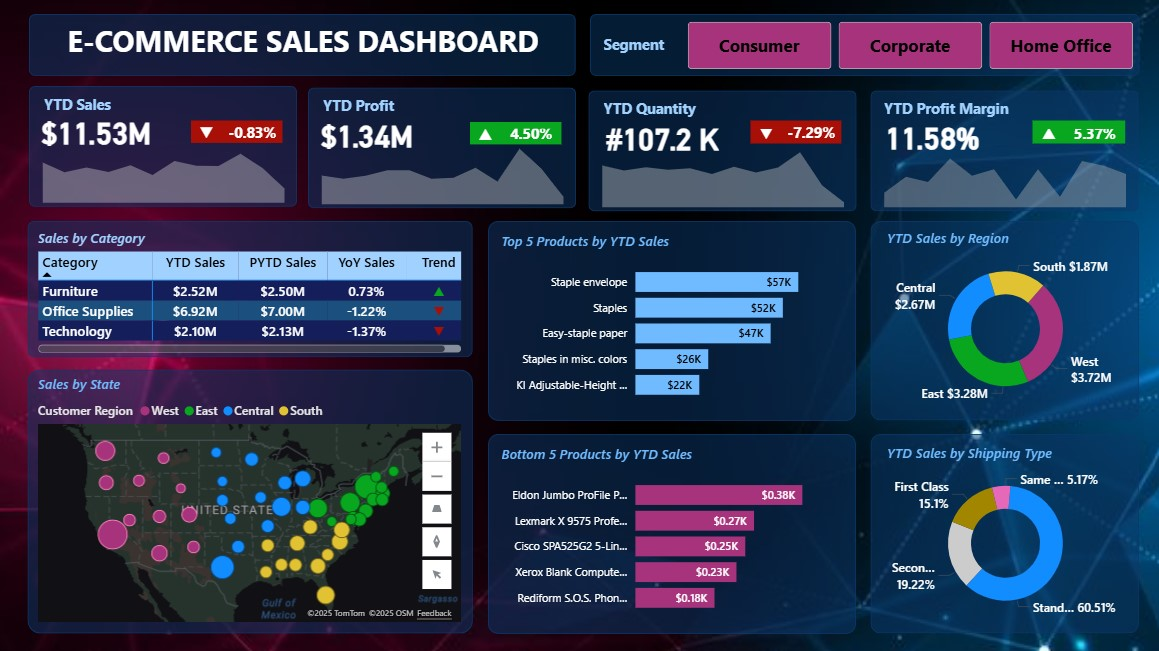

The dashboard page shown, as its layout file describes it:
{"tool":"powerbi","page":{"name":"Page 1","canvas":[1280,720],"ordinal":0},"visuals":[{"type":"shape","box":[33.3,16.7,601.7,68.3],"z":0},{"type":"textbox","box":[35,18.3,600,66.7],"z":1000},{"type":"shape","box":[33,95.8,295,133],"z":2000},{"type":"card","fields":{"Values":["ecommerce_data.YTD Sales"]},"box":[33,117.2,146.9,56.1],"z":3000},{"type":"shape","box":[211.3,133.7,100.7,24.8],"z":4000},{"type":"areaChart","fields":{"Category":["Calender.Month"],"Y":["Sum(ecommerce_data.sales_per_order)"]},"box":[33,146.9,295.5,82.5],"z":5000},{"type":"card","fields":{"Values":["ecommerce_data.YoY Sales"]},"box":[244.3,133.7,67.7,24.8],"z":6000},{"type":"card","fields":{"Values":["ecommerce_data.Sales Icon"]},"box":[211.3,133.7,33,24.8],"z":7000},{"type":"textbox","box":[44.6,99.1,105.7,34.7],"z":8000},{"type":"shape","box":[340.2,96.9,295,133],"z":9000},{"type":"card","fields":{"Values":["ecommerce_data.YTD Profit"]},"box":[336.2,120,135.4,56.1],"z":10000},{"type":"shape","box":[518.5,134.9,100.7,24.8],"z":11000},{"type":"areaChart","fields":{"Category":["Calender.Month"],"Y":["Sum(ecommerce_data.profit_per_order)"]},"box":[340.2,148.1,295.5,82.5],"z":12000},{"type":"card","fields":{"Values":["ecommerce_data.YoY Profit"]},"box":[551.5,134.9,67.7,24.8],"z":13000},{"type":"card","fields":{"Values":["ecommerce_data.Profit Icon"]},"box":[517.8,134.8,33,24.8],"z":14000},{"type":"textbox","box":[351.7,100.2,105.7,34.7],"z":15000},{"type":"shape","box":[648.4,101.4,295,133],"z":16000},{"type":"card","fields":{"Values":["ecommerce_data.YTD Concatenated Qty"]},"box":[661.5,124.4,135.4,56.1],"z":17000},{"type":"shape","box":[826.7,133.3,100,25],"z":18000},{"type":"areaChart","fields":{"Category":["Calender.Month"],"Y":["Sum(ecommerce_data.order_quantity)"]},"box":[648.4,152.6,295.5,82.5],"z":19000},{"type":"card","fields":{"Values":["ecommerce_data.YoY Qty"]},"box":[860,133.3,66.7,25],"z":20000},{"type":"card","fields":{"Values":["ecommerce_data.Qty Icon"]},"box":[826.7,133.3,33.3,23.3],"z":21000},{"type":"textbox","box":[659.8,104.6,135.4,34.7],"z":22000},{"type":"shape","box":[958.9,100.4,295,133],"z":23000},{"type":"card","fields":{"Values":["ecommerce_data.YTD Profit Margin"]},"box":[959.7,122.7,135.4,56.1],"z":24000},{"type":"shape","box":[1136.7,133.3,101.7,25],"z":25000},{"type":"areaChart","fields":{"Category":["Calender.Month"],"Y":["ecommerce_data.Profit Margin"]},"box":[958.9,151.6,295.5,82.5],"z":26000},{"type":"card","fields":{"Values":["ecommerce_data.YoY Profit Margin"]},"box":[1171.7,133.3,66.7,23.3],"z":27000},{"type":"card","fields":{"Values":["ecommerce_data.Profit Margin Icon"]},"box":[1136.7,133.3,35,23.3],"z":28000},{"type":"textbox","box":[969.6,104.6,166.7,33],"z":29000},{"type":"shape","box":[31.4,244.3,490,150],"z":30000},{"type":"pivotTable","title":"Sales by Category","fields":{"Rows":["ecommerce_data.category_name"],"Values":["ecommerce_data.YTD Sales","ecommerce_data.PTYD Sales","ecommerce_data.YoY Sales","ecommerce_data.Sales Icon"]},"box":[38,252.6,475.5,142],"z":31000},{"type":"shape","box":[31.4,407.8,490.3,290.6],"z":32000},{"type":"azureMap","title":"Sales by State","fields":{"Y":["us_state_long_lat_codes.latitude"],"X":["us_state_long_lat_codes.longitude"],"Size":["ecommerce_data.YTD Sales"],"Series":["ecommerce_data.customer_region"]},"box":[38.3,413.3,475,278.3],"z":33000},{"type":"shape","box":[538.3,245,405,220],"z":34000},{"type":"shape","box":[538.3,478.3,405,220],"z":35000},{"type":"barChart","title":"Top 5 Products by YTD Sales","fields":{"Category":["ecommerce_data.product_name"],"Y":["ecommerce_data.YTD Sales"]},"box":[548.1,255.9,379.7,196.5],"z":36000},{"type":"barChart","title":"Bottom 5 Products by YTD Sales","fields":{"Category":["ecommerce_data.product_name"],"Y":["ecommerce_data.YTD Sales"]},"box":[548.1,489.8,379.7,196.5],"z":37000},{"type":"shape","box":[959.2,244.3,295.5,219.6],"z":38000},{"type":"shape","box":[959.2,478.8,295.5,219.6],"z":39000},{"type":"donutChart","title":"YTD Sales by Region","fields":{"Category":["ecommerce_data.Customer Region"],"Y":["ecommerce_data.YTD Sales"]},"box":[971.7,253.3,270,200],"z":40000},{"type":"donutChart","title":"YTD Sales by Shipping Type","fields":{"Y":["ecommerce_data.YTD Sales"],"Category":["ecommerce_data.shipping_type"]},"box":[971.7,488.3,270,200],"z":41000},{"type":"shape","box":[650,16.7,605,68.3],"z":42000},{"type":"advancedSlicerVisual","fields":{"Values":["ecommerce_data.customer_segment"]},"box":[752.8,19.8,501.9,62.7],"z":43000},{"type":"textbox","box":[660.4,33,92.5,36.3],"z":44000}]}

Visuals, with their boxes in screenshot pixels (x1, y1, x2, y2), scaled from the page's 1280x720 canvas onto the 1159x651 screenshot:
shape: Rect(30, 15, 575, 77)
textbox: Rect(32, 17, 575, 77)
shape: Rect(30, 87, 297, 207)
card - ecommerce_data.YTD Sales: Rect(30, 106, 163, 157)
shape: Rect(191, 121, 283, 143)
areaChart - Calender.Month x Sum(ecommerce_data.sales_per_order): Rect(30, 133, 297, 207)
card - ecommerce_data.YoY Sales: Rect(221, 121, 283, 143)
card - ecommerce_data.Sales Icon: Rect(191, 121, 221, 143)
textbox: Rect(40, 90, 136, 121)
shape: Rect(308, 88, 575, 208)
card - ecommerce_data.YTD Profit: Rect(304, 108, 427, 159)
shape: Rect(469, 122, 561, 144)
areaChart - Calender.Month x Sum(ecommerce_data.profit_per_order): Rect(308, 134, 576, 209)
card - ecommerce_data.YoY Profit: Rect(499, 122, 561, 144)
card - ecommerce_data.Profit Icon: Rect(469, 122, 499, 144)
textbox: Rect(318, 91, 414, 122)
shape: Rect(587, 92, 854, 212)
card - ecommerce_data.YTD Concatenated Qty: Rect(599, 112, 722, 163)
shape: Rect(749, 121, 839, 143)
areaChart - Calender.Month x Sum(ecommerce_data.order_quantity): Rect(587, 138, 855, 213)
card - ecommerce_data.YoY Qty: Rect(779, 121, 839, 143)
card - ecommerce_data.Qty Icon: Rect(749, 121, 779, 142)
textbox: Rect(597, 95, 720, 126)
shape: Rect(868, 91, 1135, 211)
card - ecommerce_data.YTD Profit Margin: Rect(869, 111, 992, 162)
shape: Rect(1029, 121, 1121, 143)
areaChart - Calender.Month x ecommerce_data.Profit Margin: Rect(868, 137, 1136, 212)
card - ecommerce_data.YoY Profit Margin: Rect(1061, 121, 1121, 142)
card - ecommerce_data.Profit Margin Icon: Rect(1029, 121, 1061, 142)
textbox: Rect(878, 95, 1029, 124)
shape: Rect(28, 221, 472, 357)
"Sales by Category" pivotTable: Rect(34, 228, 465, 357)
shape: Rect(28, 369, 472, 631)
"Sales by State" azureMap: Rect(35, 374, 465, 625)
shape: Rect(487, 222, 854, 420)
shape: Rect(487, 432, 854, 631)
"Top 5 Products by YTD Sales" barChart: Rect(496, 231, 840, 409)
"Bottom 5 Products by YTD Sales" barChart: Rect(496, 443, 840, 621)
shape: Rect(869, 221, 1136, 419)
shape: Rect(869, 433, 1136, 631)
"YTD Sales by Region" donutChart: Rect(880, 229, 1124, 410)
"YTD Sales by Shipping Type" donutChart: Rect(880, 442, 1124, 622)
shape: Rect(589, 15, 1136, 77)
advancedSlicerVisual - ecommerce_data.customer_segment: Rect(682, 18, 1136, 75)
textbox: Rect(598, 30, 682, 63)
